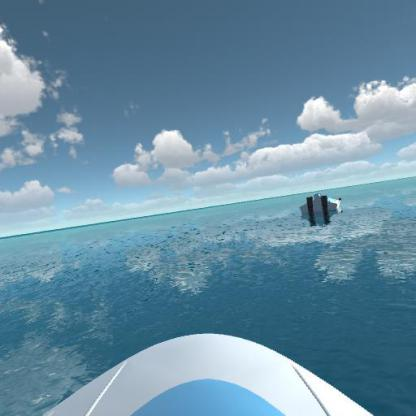usv1: (294, 186, 348, 225)
